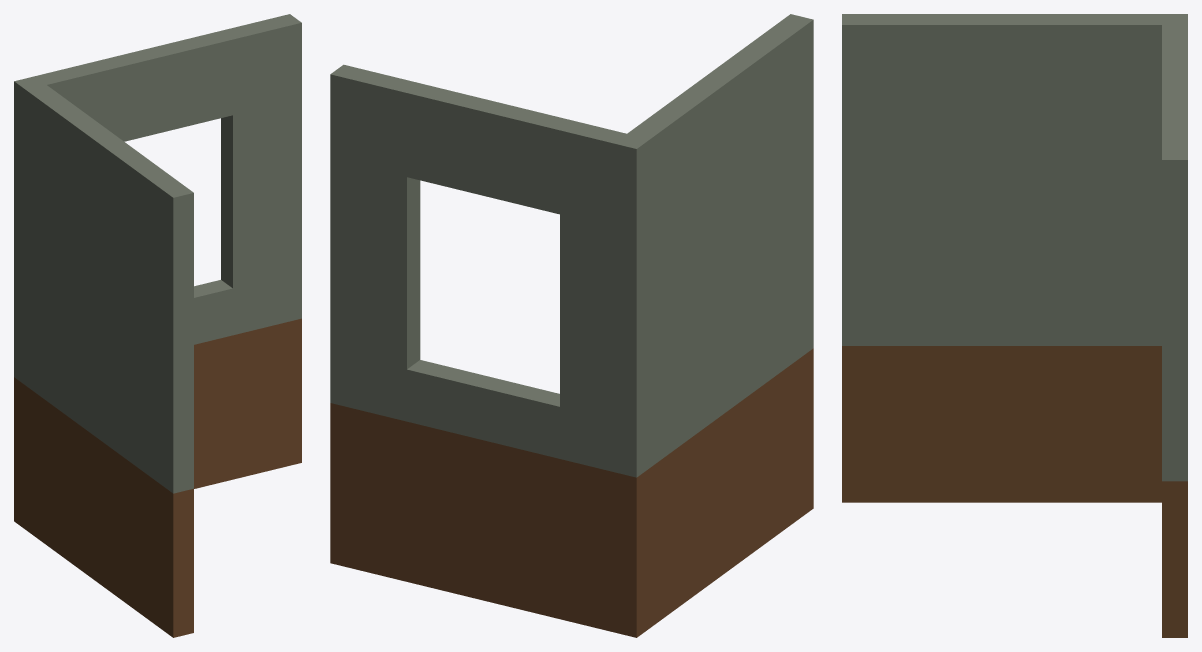
Rendered from Building_23.fbx.
3 renders of one model, left to right at view 1: azimuth 30°, elevation 25°; view 2: azimuth 150°, elevation 25°; view 3: azimuth 270°, elevation 25°, orthographic. The views are drawn at different scales.
Visible parts, largest first — view 1: Building_23; view 2: Building_23; view 3: Building_23.
Part boxes in pixels (x1,y1,x2,y2): Building_23: [14, 14, 301, 637]; Building_23: [330, 14, 813, 637]; Building_23: [842, 14, 1187, 637].
Bounding box in the file's own units: 162 × 247 × 162.
1 material, 1 textured.
